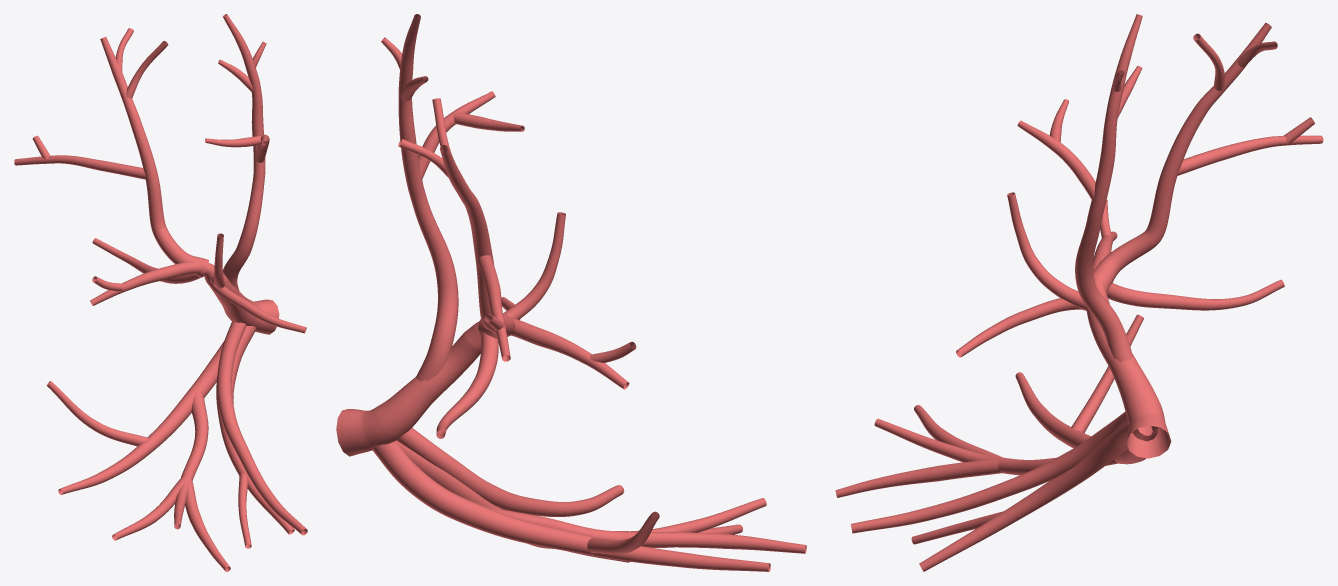
The model's file is Right_superior_pulmonary_vein.glb.
The picture shows the model from 3 angles, left to right: view 1: azimuth 30°, elevation 25°; view 2: azimuth 150°, elevation 25°; view 3: azimuth 270°, elevation 25°; orthographic projection. The views are drawn at different scales.
Parts seen in each view (by area): view 1: Right_superior_pulmonary_vein_BezierCurve.186; view 2: Right_superior_pulmonary_vein_BezierCurve.186; view 3: Right_superior_pulmonary_vein_BezierCurve.186.
Boxes of the visible parts, x1=… form: Right_superior_pulmonary_vein_BezierCurve.186: x1=14, y1=14, x2=307, y2=571; Right_superior_pulmonary_vein_BezierCurve.186: x1=336, y1=14, x2=806, y2=571; Right_superior_pulmonary_vein_BezierCurve.186: x1=835, y1=14, x2=1323, y2=571.
Bounding box in the file's own units: 0.0939 × 0.1536 × 0.119.
